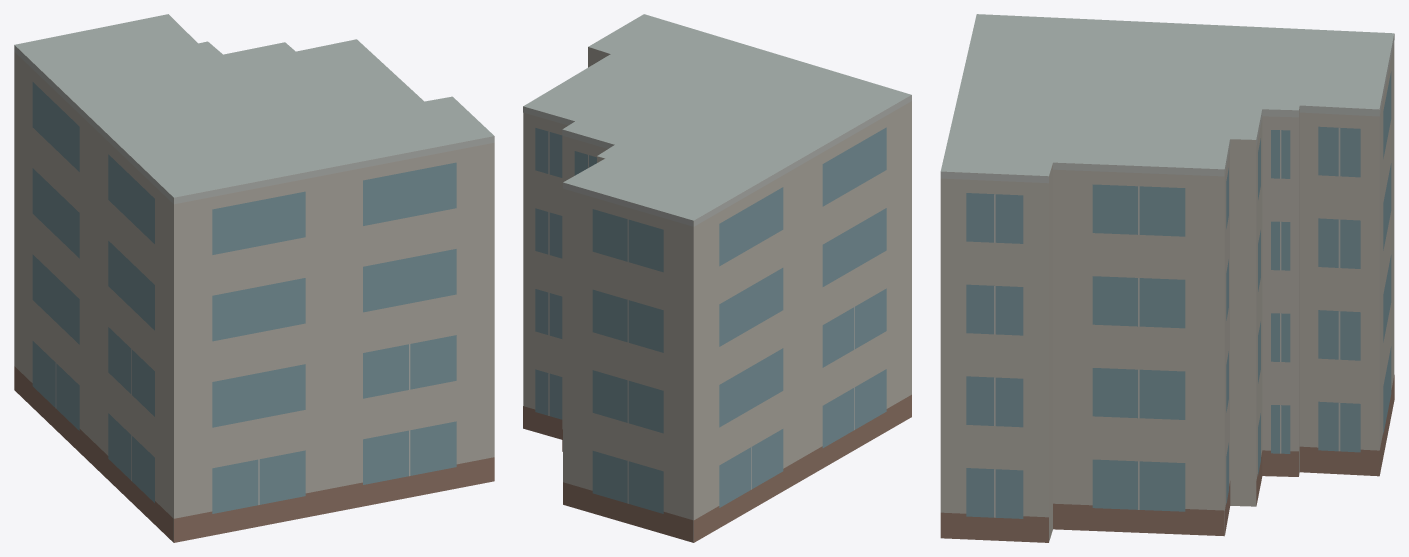
Rendered from survey-upis-32670568.glb.
3 views of the same model, side by side, from view 1: azimuth 30°, elevation 25°; view 2: azimuth 150°, elevation 25°; view 3: azimuth 270°, elevation 25° (orthographic). The views are drawn at different scales.
Parts seen in each view (by area): view 1: survey-upis-32670568.tmp; view 2: survey-upis-32670568.tmp; view 3: survey-upis-32670568.tmp.
Boxes of the visible parts, bbox=[...] form: survey-upis-32670568.tmp: bbox=[14, 14, 494, 542]; survey-upis-32670568.tmp: bbox=[523, 14, 911, 542]; survey-upis-32670568.tmp: bbox=[940, 14, 1394, 542].
Bounding box in the file's own units: 12.05 × 12.7 × 14.25.
